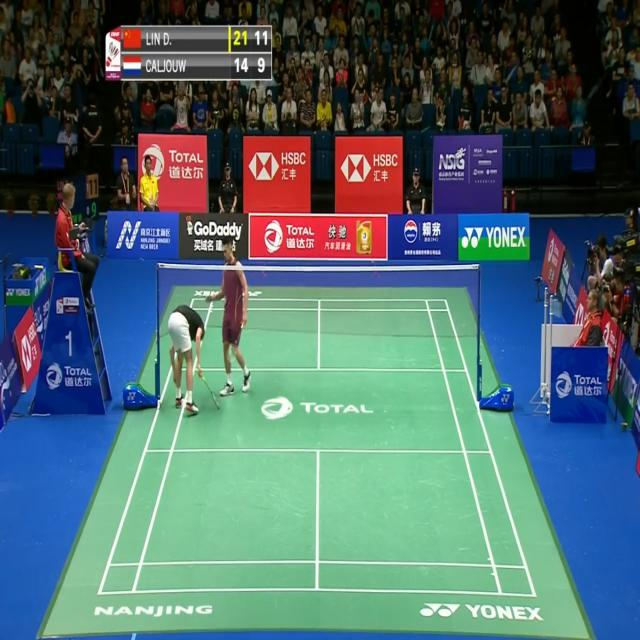Player1: (168, 293, 210, 423)
Player2: (209, 228, 253, 408)
